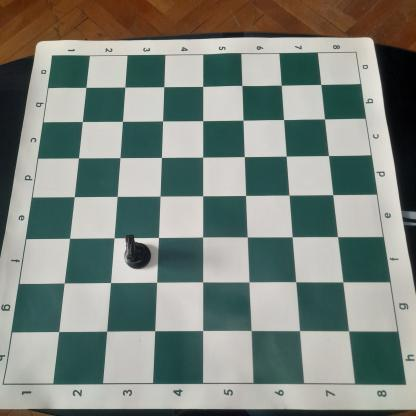black-knight: (121, 233, 154, 271)
